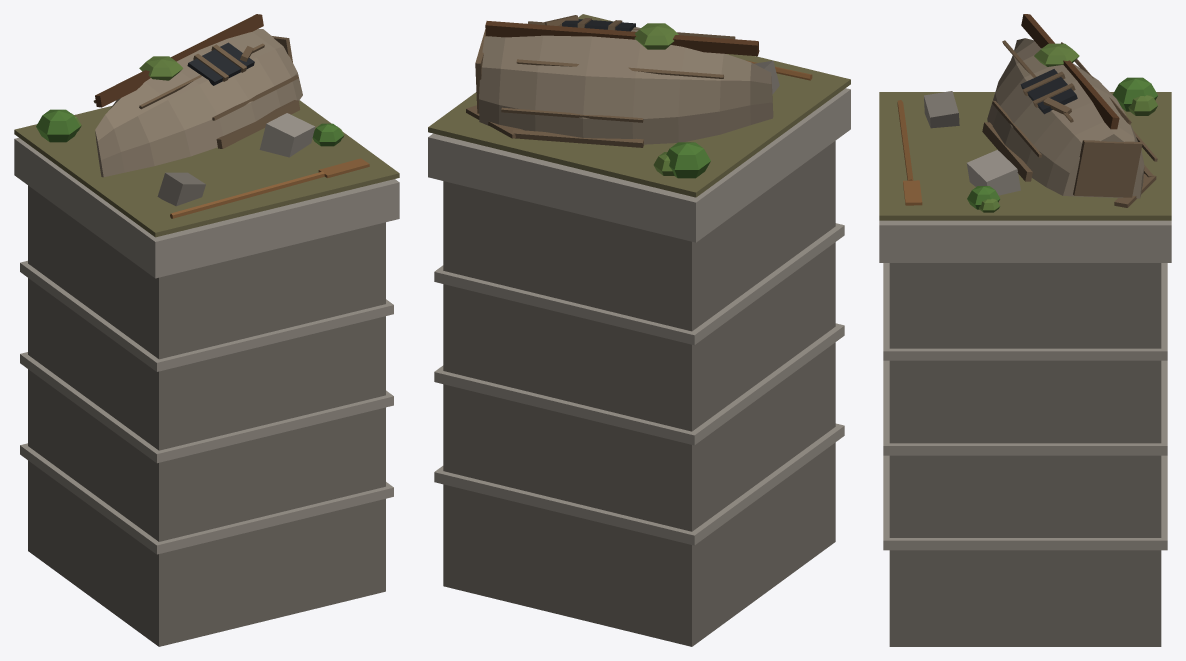
The model's file is decor_wrecked_boat.glb.
3 renders of one model, left to right at view 1: azimuth 30°, elevation 25°; view 2: azimuth 150°, elevation 25°; view 3: azimuth 270°, elevation 25°, orthographic. The views are drawn at different scales.
Visible parts, largest first — view 1: decor_wrecked_boat; view 2: decor_wrecked_boat; view 3: decor_wrecked_boat.
Part boxes in pixels (<box>): decor_wrecked_boat: <box>14,14,399,646</box>; decor_wrecked_boat: <box>428,14,850,646</box>; decor_wrecked_boat: <box>879,14,1171,646</box>.
Bounding box in the file's own units: 2.8 × 5.57 × 2.8.
